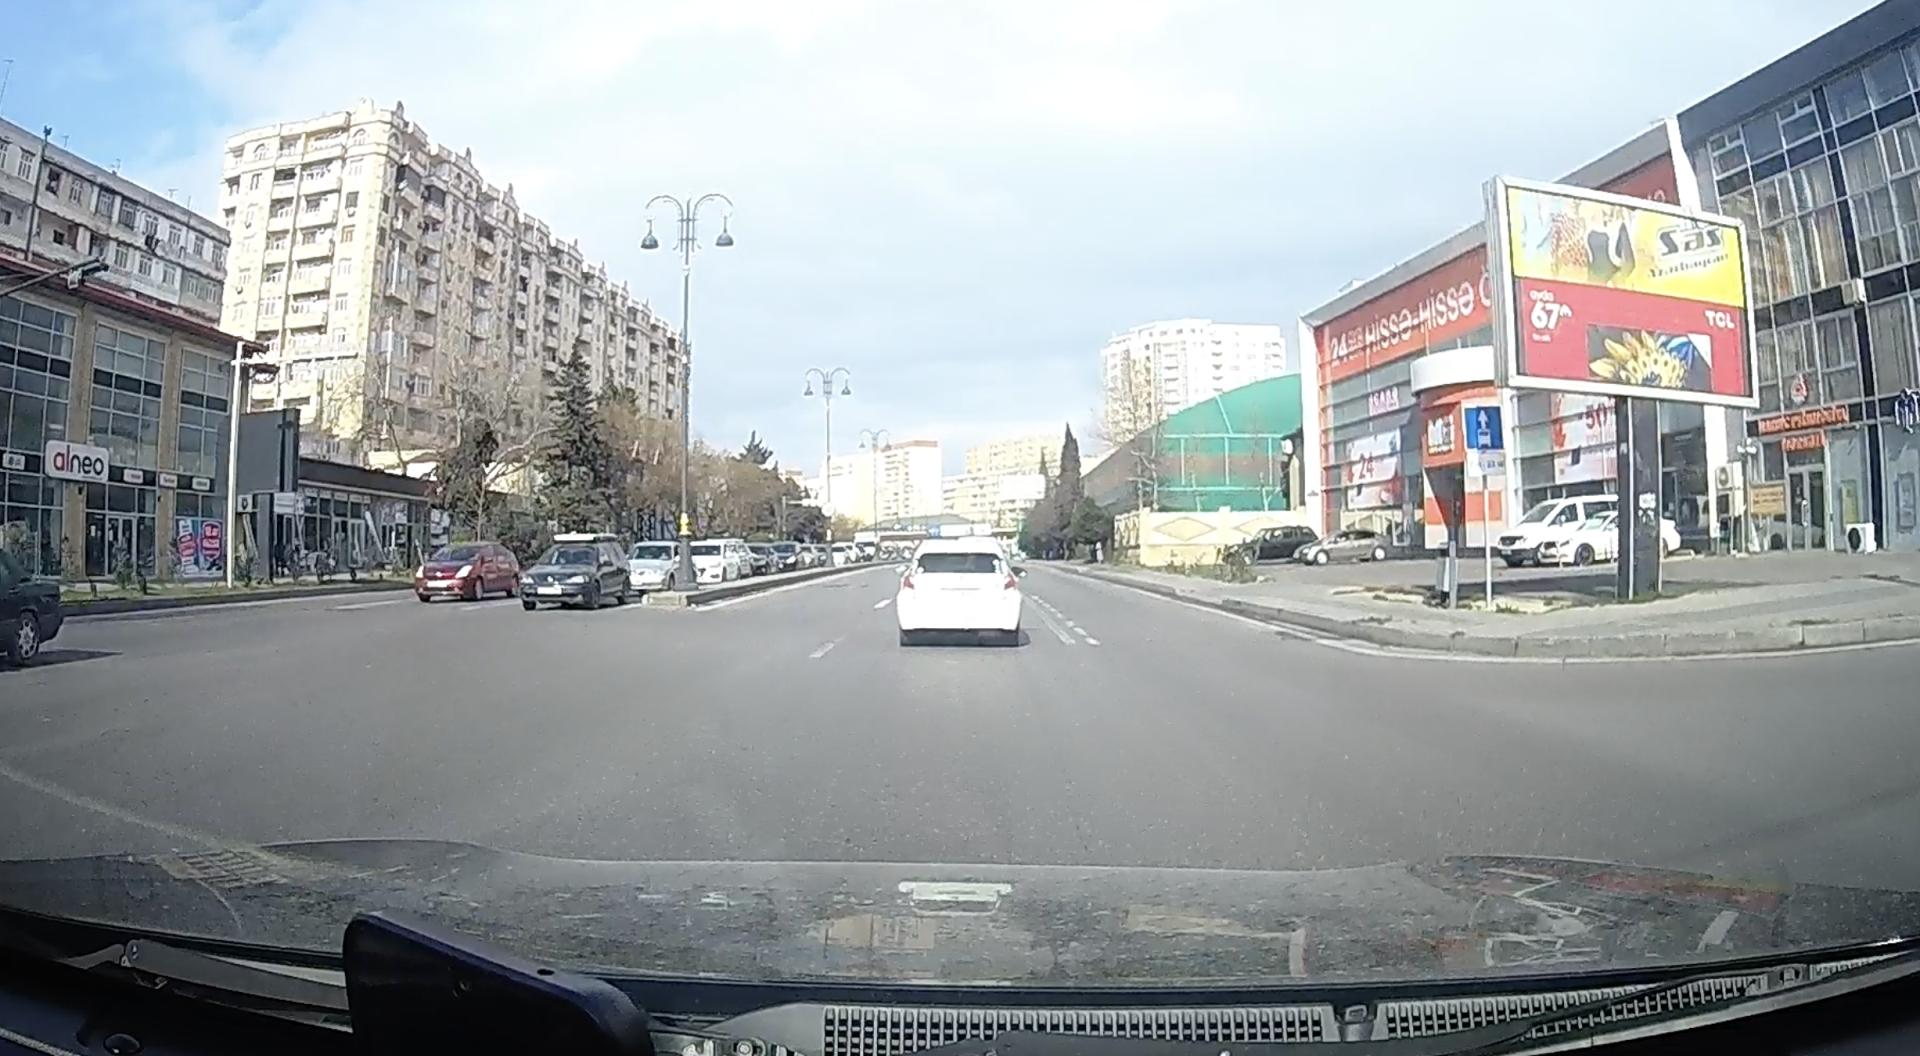banner: (1482, 173, 1763, 415)
